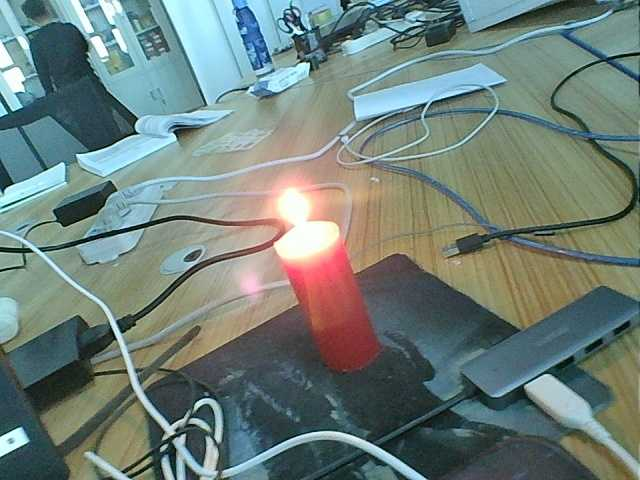candle: (278, 257, 383, 371)
fire: (270, 187, 331, 251)
